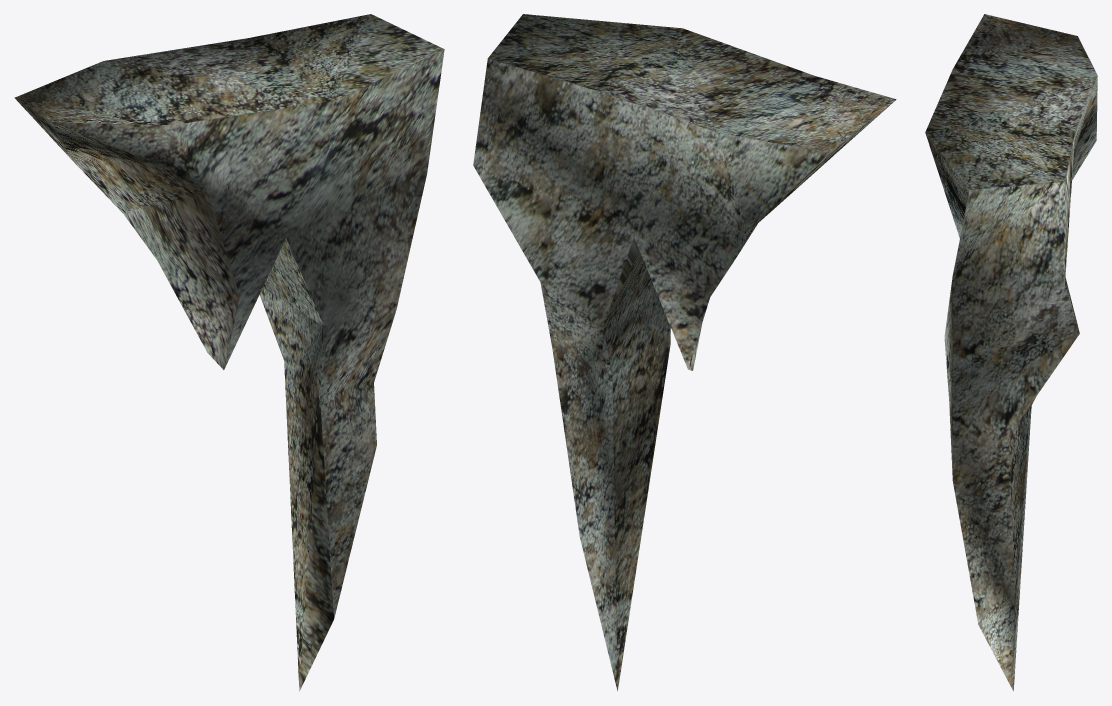
File: SopleTrap.obj
The picture shows the model from 3 angles, left to right: view 1: azimuth 30°, elevation 25°; view 2: azimuth 150°, elevation 25°; view 3: azimuth 270°, elevation 25°; orthographic projection. The views are drawn at different scales.
Visible parts, largest first — view 1: low; view 2: low; view 3: low.
Boxes of the visible parts, x1=… form: low: x1=14, y1=14, x2=444, y2=691; low: x1=473, y1=14, x2=896, y2=690; low: x1=925, y1=14, x2=1097, y2=691.
Bounding box in the file's own units: 3.19 × 5.13 × 1.42.
1 material, 1 textured.
